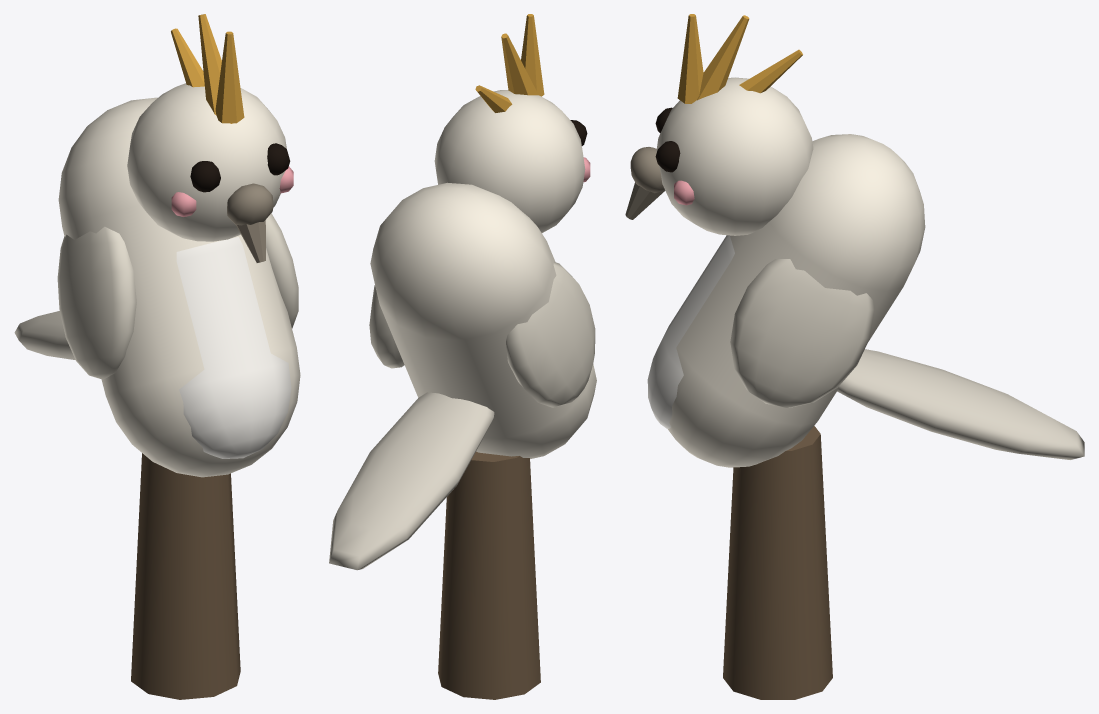
Rendered from h36-kakatua.glb.
3 renders of one model, left to right at view 1: azimuth 30°, elevation 25°; view 2: azimuth 150°, elevation 25°; view 3: azimuth 270°, elevation 25°, orthographic. The views are drawn at different scales.
Parts seen in each view (by area): view 1: Burung Kakatua, head; view 2: Burung Kakatua, head; view 3: Burung Kakatua, head.
Boxes of the visible parts, left/top/right/bottom form: Burung Kakatua: left=14, top=97, right=300, bottom=699; head: left=127, top=14, right=293, bottom=262; Burung Kakatua: left=329, top=182, right=596, bottom=699; head: left=434, top=14, right=590, bottom=232; Burung Kakatua: left=647, top=134, right=1084, bottom=699; head: left=625, top=14, right=813, bottom=235.
Size of the model in its own units: 0.1907 by 0.5975 by 0.3754.
